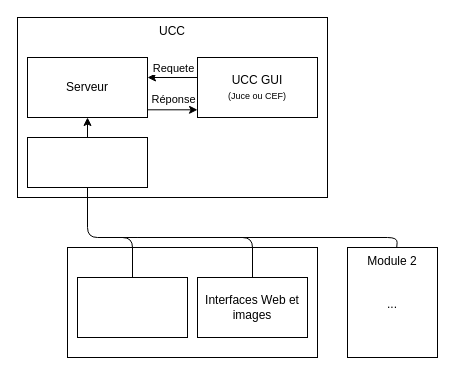
This 455x375 diagram has some shape labels left out. The shapes that lost their labels are listed below. From the top down, each one's box as (x1, y1, x2, y2) in pixels, then its label:
(26, 136, 148, 188): Module Loader Associe des endpoints serveurs aux données des modules
(76, 276, 188, 338): Fonctionnalités C++
(66, 246, 318, 358): Module 1
